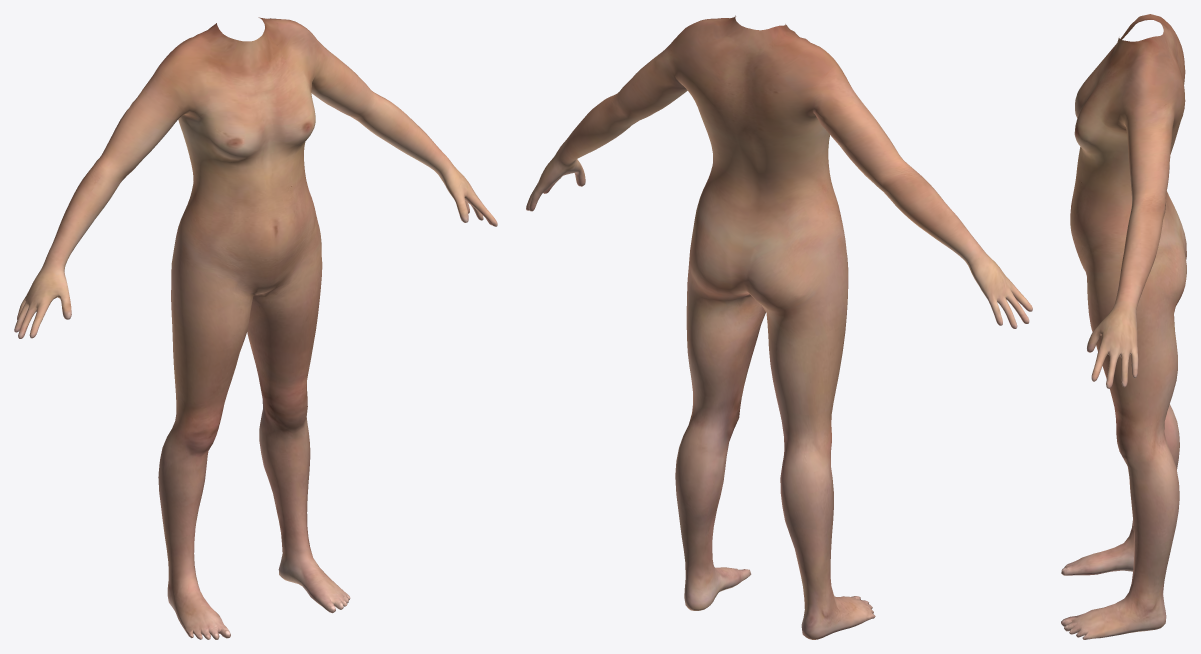
File: female_body.glb
The picture shows the model from 3 angles, left to right: view 1: azimuth 30°, elevation 25°; view 2: azimuth 150°, elevation 25°; view 3: azimuth 270°, elevation 25°; orthographic projection. The views are drawn at different scales.
Parts seen in each view (by area): view 1: body; view 2: body; view 3: body.
Boxes of the visible parts, <box> form: body: <box>14,17,497,639</box>; body: <box>526,15,1032,639</box>; body: <box>1061,14,1186,639</box>.
Size of the model in its own units: 1.23 by 1.42 by 0.2821.
1 material, 1 textured.
